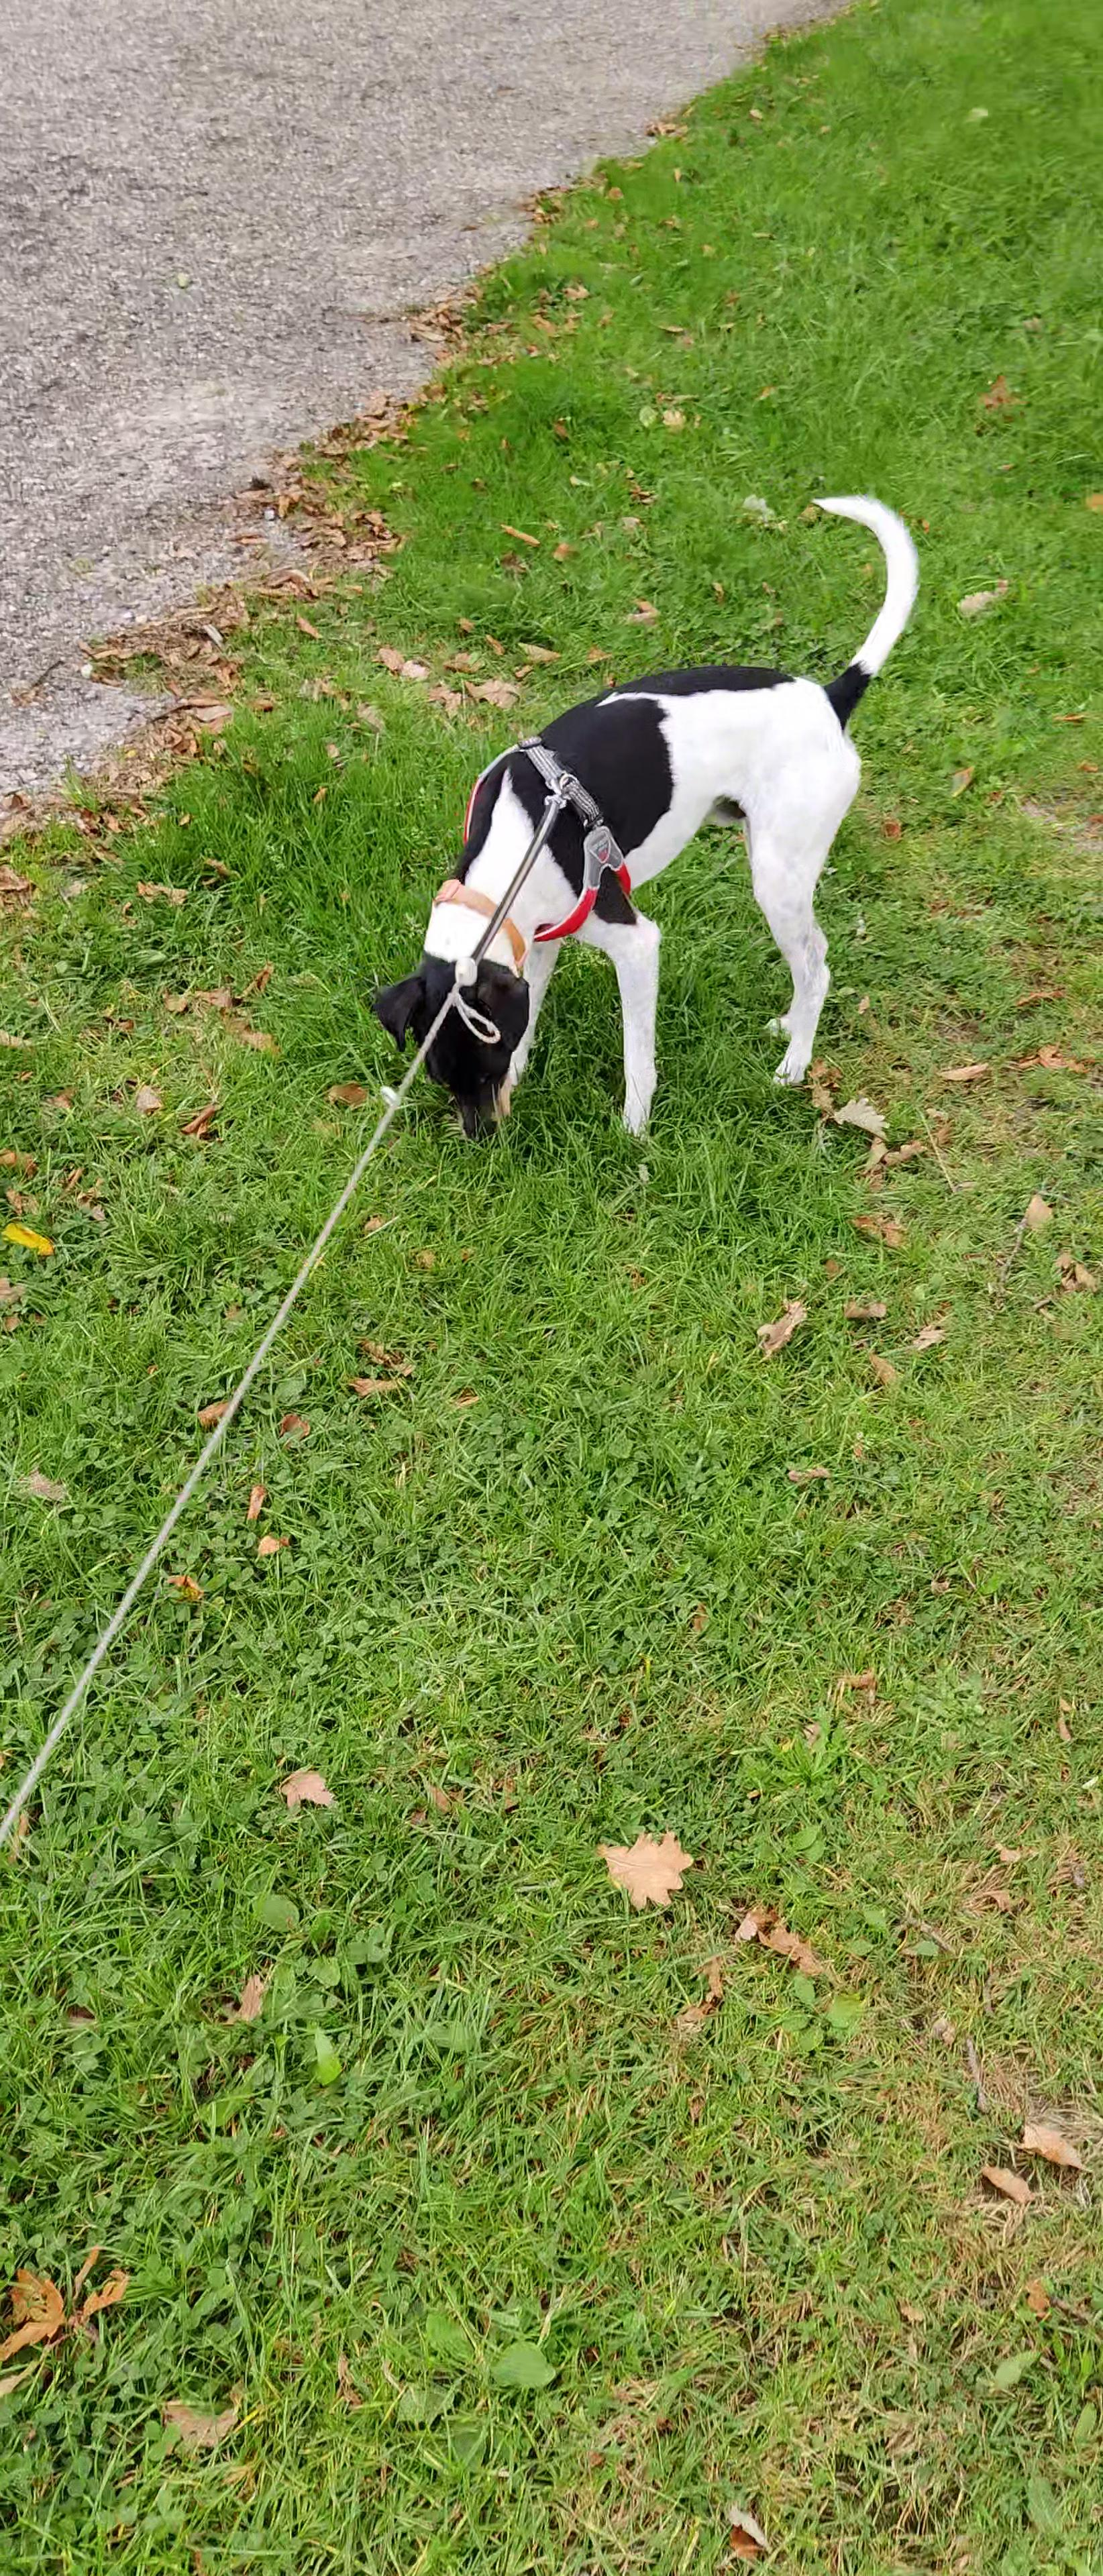Dog: (352, 486, 927, 1143)
